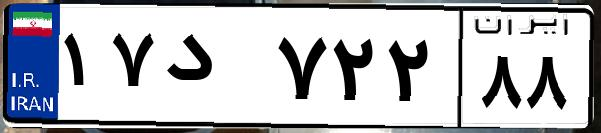1: (57, 26, 110, 100)
2: (385, 28, 445, 110), (330, 28, 385, 110)
7: (270, 28, 330, 110), (110, 28, 158, 98)
8: (475, 38, 525, 113), (525, 38, 570, 115)
د: (158, 20, 270, 120)
